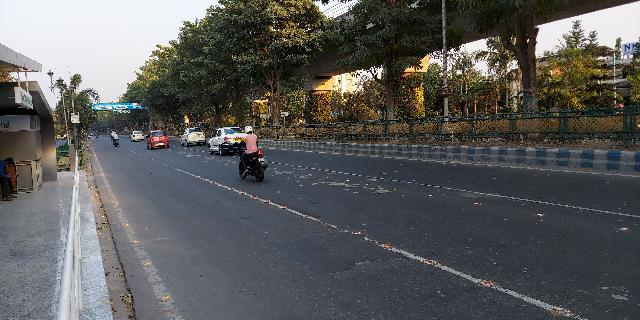Car: (207, 125, 244, 156), (177, 124, 210, 147), (143, 128, 169, 150)
Motorbike: (232, 125, 272, 185), (109, 129, 121, 151)
